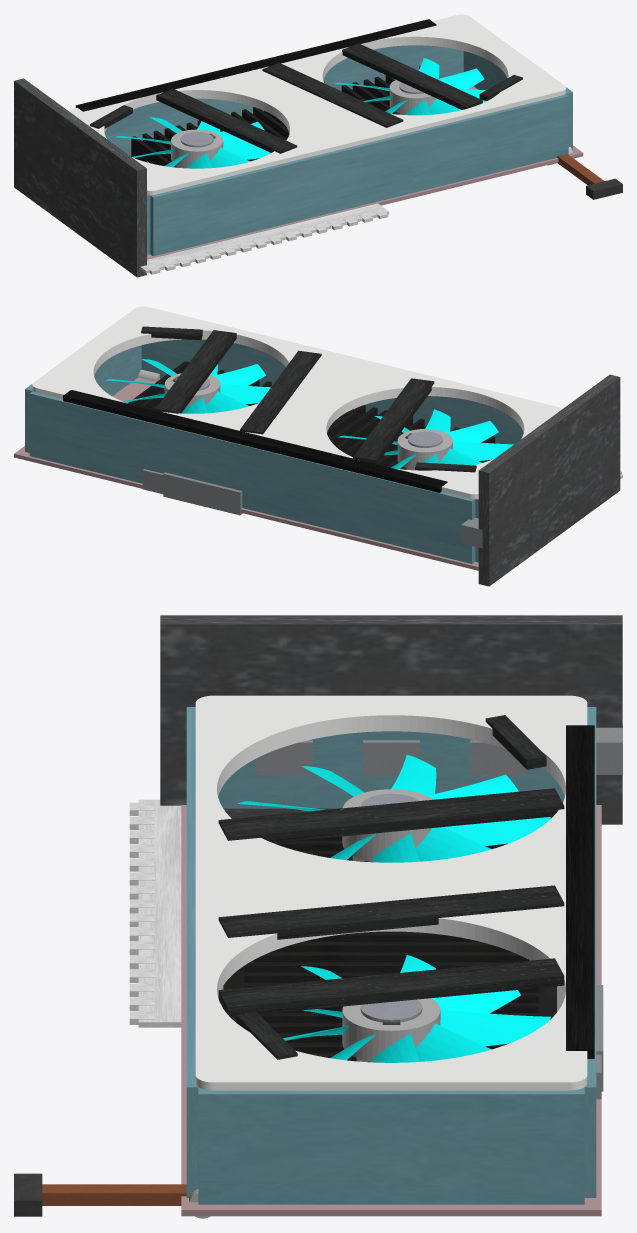
File: Technology_Graphics_Card__0822.glb
The picture shows the model from 3 angles, top to bottom: view 1: azimuth 30°, elevation 25°; view 2: azimuth 150°, elevation 25°; view 3: azimuth 270°, elevation 25°; orthographic projection. The views are drawn at different scales.
Parts seen in each view (by area): view 1: card_body::skirt_wall_bottom, card_body::shroud_faceplate, card_body::io_bracket_plate, card_body::skirt_wall_top, card_body::rgb_diffuser_strip, card_body::pcie_contact_bar, card_body::accent_strap_2, card_body::accent_strap_0, fan_0::rotor_blades, card_body::accent_strap_1, fan_1::rotor_blades, card_body::pcb (+11 smaller); view 2: card_body::skirt_wall_top, card_body::shroud_faceplate, card_body::io_bracket_plate, card_body::skirt_wall_bottom, card_body::rgb_diffuser_strip, card_body::pcb, fan_1::rotor_blades, fan_0::rotor_blades, card_body::accent_strap_0, card_body::accent_strap_2, card_body::accent_strap_1, card_body::power_connector_12vhpwr (+12 smaller); view 3: card_body::shroud_faceplate, card_body::skirt_wall_tail, card_body::io_bracket_plate, card_body::skirt_wall_head, card_body::accent_strap_2, card_body::pcb, card_body::rgb_diffuser_strip, card_body::accent_strap_0, card_body::accent_strap_1, card_body::pcie_contact_bar, fan_1::rotor_blades, fan_0::rotor_blades (+21 smaller).
Part boxes in pixels (x1=…): card_body::skirt_wall_bottom: x1=150, y1=94, x2=568, y2=256; card_body::shroud_faceplate: x1=67, y1=14, x2=566, y2=195; card_body::io_bracket_plate: x1=14, y1=78, x2=146, y2=277; card_body::skirt_wall_top: x1=104, y1=45, x2=463, y2=156; card_body::rgb_diffuser_strip: x1=75, y1=19, x2=436, y2=111; card_body::pcie_contact_bar: x1=140, y1=203, x2=389, y2=273; card_body::accent_strap_2: x1=342, y1=43, x2=482, y2=109; card_body::accent_strap_0: x1=156, y1=88, x2=297, y2=153; fan_0::rotor_blades: x1=115, y1=117, x2=270, y2=168; card_body::accent_strap_1: x1=262, y1=63, x2=403, y2=127; fan_1::rotor_blades: x1=334, y1=58, x2=486, y2=115; card_body::pcb: x1=147, y1=86, x2=583, y2=259; card_body::skirt_wall_top: x1=29, y1=391, x2=475, y2=563; card_body::shroud_faceplate: x1=32, y1=306, x2=562, y2=498; card_body::io_bracket_plate: x1=478, y1=374, x2=620, y2=586; card_body::skirt_wall_bottom: x1=141, y1=339, x2=523, y2=444; card_body::rgb_diffuser_strip: x1=63, y1=390, x2=447, y2=492; card_body::pcb: x1=14, y1=377, x2=478, y2=570; fan_1::rotor_blades: x1=105, y1=359, x2=270, y2=413; fan_0::rotor_blades: x1=338, y1=409, x2=513, y2=468; card_body::accent_strap_0: x1=353, y1=378, x2=434, y2=464; card_body::accent_strap_2: x1=155, y1=330, x2=236, y2=413; card_body::accent_strap_1: x1=240, y1=350, x2=321, y2=434; card_body::power_connector_12vhpwr: x1=163, y1=472, x2=242, y2=515; card_body::shroud_faceplate: x1=195, y1=695, x2=587, y2=1090; card_body::skirt_wall_tail: x1=198, y1=1087, x2=584, y2=1204; card_body::io_bracket_plate: x1=160, y1=615, x2=622, y2=824; card_body::skirt_wall_head: x1=218, y1=731, x2=564, y2=808; card_body::accent_strap_2: x1=218, y1=958, x2=564, y2=1016; card_body::pcb: x1=181, y1=805, x2=601, y2=1216; card_body::rgb_diffuser_strip: x1=566, y1=725, x2=594, y2=1058; card_body::accent_strap_0: x1=218, y1=788, x2=564, y2=842; card_body::accent_strap_1: x1=218, y1=885, x2=564, y2=939; card_body::pcie_contact_bar: x1=138, y1=799, x2=181, y2=1027; fan_1::rotor_blades: x1=283, y1=955, x2=550, y2=1062; fan_0::rotor_blades: x1=237, y1=754, x2=550, y2=862.
Size of the model in its own units: 0.275 by 0.062 by 0.171.
Materials: 18 (14 with a texture image).
